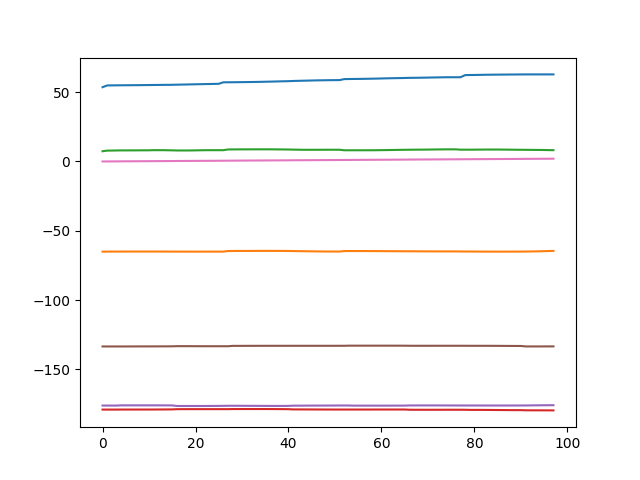Too_Slow_Down: (4, 1, 640, 480)
